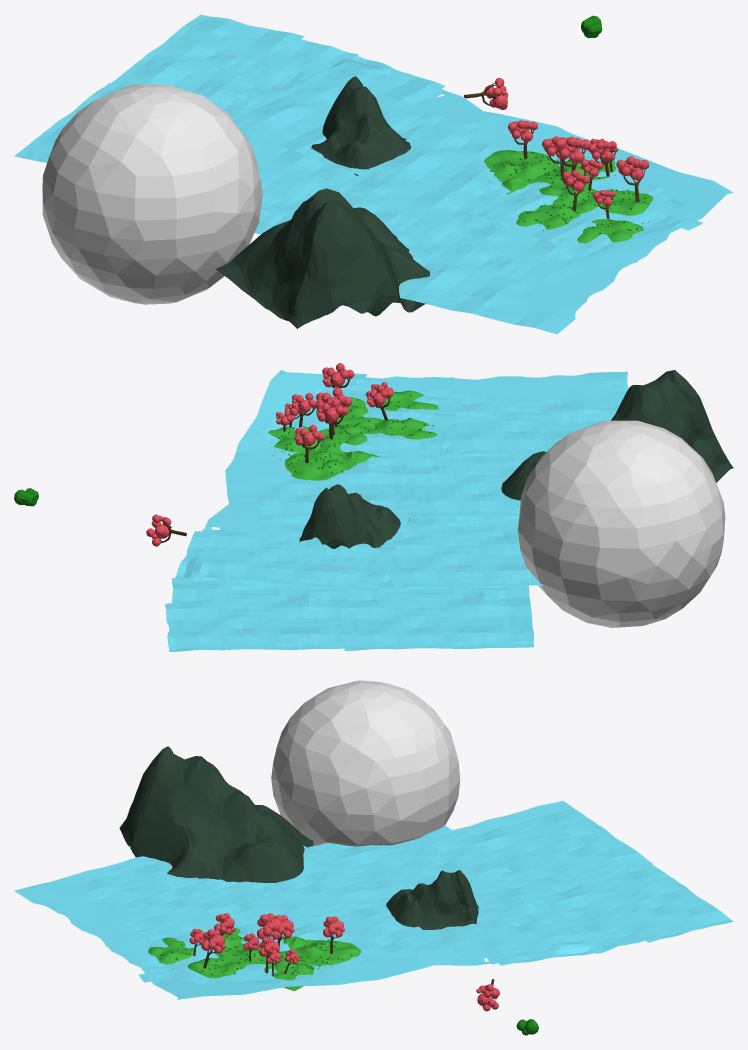
The model's file is landscape_jul19.fbx.
3 renders of one model, top to bottom at view 1: azimuth 30°, elevation 25°; view 2: azimuth 150°, elevation 25°; view 3: azimuth 270°, elevation 25°, orthographic. The views are drawn at different scales.
Visible parts, largest first — view 1: Landscape_plane.001, Sphere, Landscape.003, Landscape.004, Landscape.001, Landscape.004|Tree|Dupli|4, Landscape.004|Tree|Dupli|5, Tree, Landscape.004|Tree|Dupli|2, Landscape.004|Tree|Dupli|8; view 2: Landscape_plane.001, Sphere, Landscape.003, Landscape.004, Landscape.001, Landscape.004|Tree|Dupli|3, Tree, Landscape.004|Tree|Dupli|5, Landscape.004|Tree|Dupli|2, Landscape.004|Tree|Dupli|8; view 3: Landscape_plane.001, Sphere, Landscape.003, Landscape.004, Landscape.001.
Part boxes in pixels (<box>): Landscape_plane.001: <box>14,14,733,334</box>; Sphere: <box>42,84,262,304</box>; Landscape.003: <box>215,188,429,328</box>; Landscape.004: <box>484,150,653,243</box>; Landscape.001: <box>311,76,410,175</box>; Landscape.004|Tree|Dupli|4: <box>554,136,590,172</box>; Landscape.004|Tree|Dupli|5: <box>616,156,649,202</box>; Tree: <box>464,78,508,109</box>; Landscape.004|Tree|Dupli|2: <box>508,120,537,159</box>; Landscape.004|Tree|Dupli|8: <box>562,170,589,211</box>; Landscape_plane.001: <box>165,370,628,651</box>; Sphere: <box>518,420,725,627</box>; Landscape.003: <box>501,370,733,500</box>; Landscape.004: <box>268,390,438,480</box>; Landscape.001: <box>299,484,410,548</box>; Landscape.004|Tree|Dupli|3: <box>317,398,348,439</box>; Tree: <box>146,514,186,546</box>; Landscape.004|Tree|Dupli|5: <box>322,363,354,388</box>; Landscape.004|Tree|Dupli|2: <box>295,424,324,463</box>; Landscape.004|Tree|Dupli|8: <box>366,385,393,420</box>; Landscape_plane.001: <box>14,800,733,999</box>; Sphere: <box>271,680,460,846</box>; Landscape.003: <box>119,746,313,882</box>; Landscape.004: <box>148,927,360,991</box>; Landscape.001: <box>386,870,479,929</box>.
Size of the model in its own units: 15671 by 4681 by 17823.
